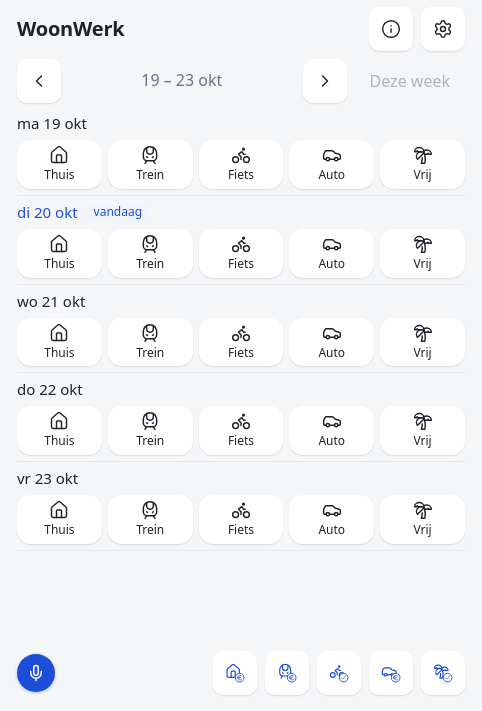
Scenario: AC38: periode van de overzichten › past het overzicht aan als je de vanaf- of tot-datum met de hand kiest
The image size is (482, 711).
Step 1. Click the button named "Overzicht treinvergoeding" → (287, 673), box [265, 651, 309, 695]
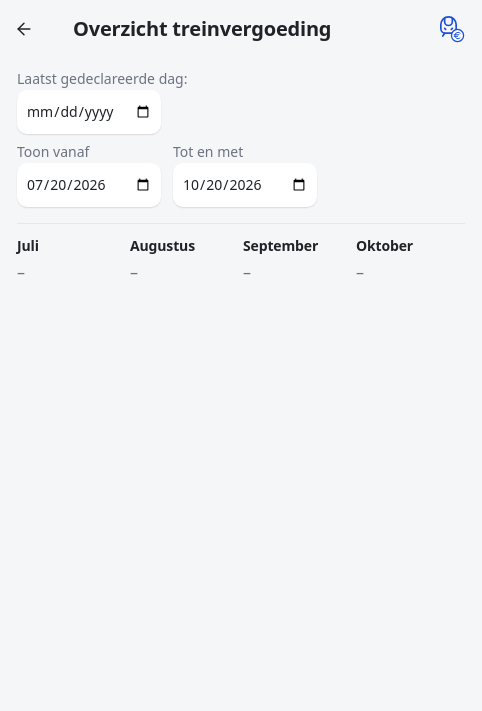
Step 2. Type "2026-05-04" into the date field labelled "Toon vanaf" → (89, 185), box [17, 163, 161, 207]
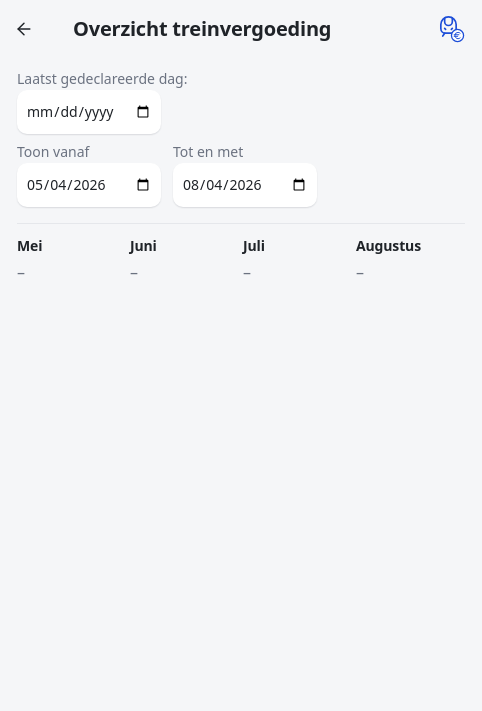
Expected: the date field labelled "Tot en met" holds "2026-08-04"
Step 3. Type "2026-10-20" into the date field labelled "Tot en met" → (245, 185), box [173, 163, 317, 207]
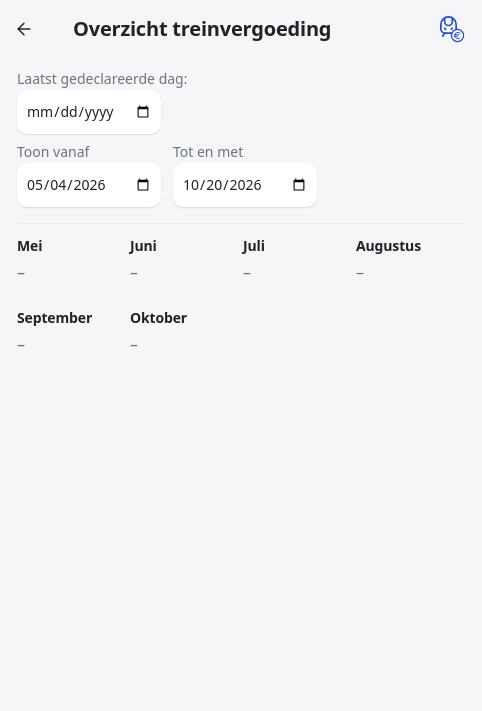
Step 4. Type "2026-09-30" into the date field labelled "Laatst gedeclareerde dag:" → (89, 112), box [17, 90, 161, 134]
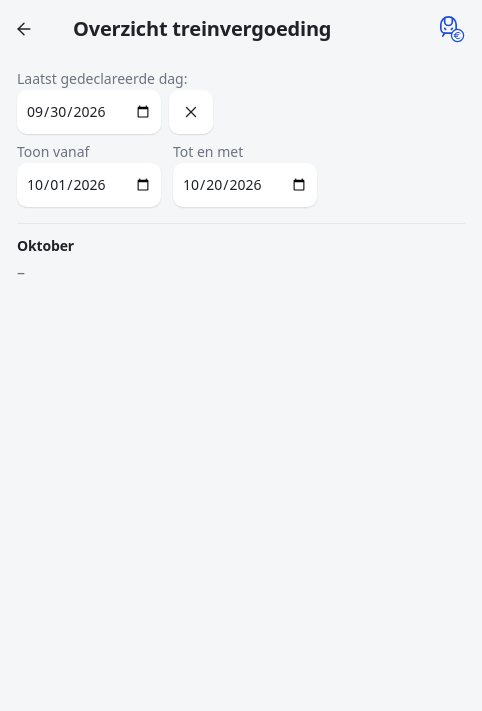
Expected: the date field labelled "Toon vanaf" holds "2026-10-01", [17, 163, 161, 207]
